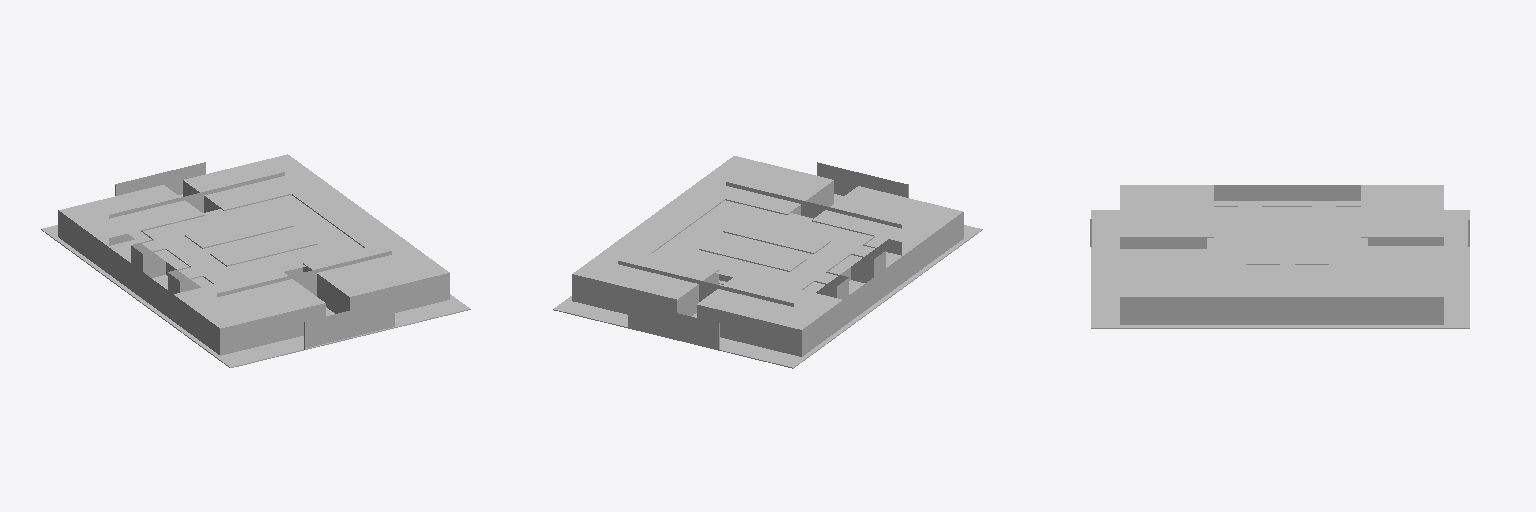
File: ENVO_citystreets.obj
The picture shows the model from 3 angles: view 1: azimuth 30°, elevation 25°; view 2: azimuth 150°, elevation 25°; view 3: azimuth 270°, elevation 25°; orthographic projection.
Visible parts, largest first — view 1: citystreets, citystreetscollisionBox; view 2: citystreets, citystreetscollisionBox; view 3: citystreets, citystreetscollisionBox.
Boxes of the visible parts, <box> form: citystreets: <box>41,154,470,367</box>; citystreetscollisionBox: <box>58,172,391,354</box>; citystreets: <box>553,156,982,368</box>; citystreetscollisionBox: <box>572,181,963,356</box>; citystreets: <box>1090,185,1469,328</box>; citystreetscollisionBox: <box>1120,185,1443,324</box>.
Size of the model in its own units: 6286 by 895 by 8606.